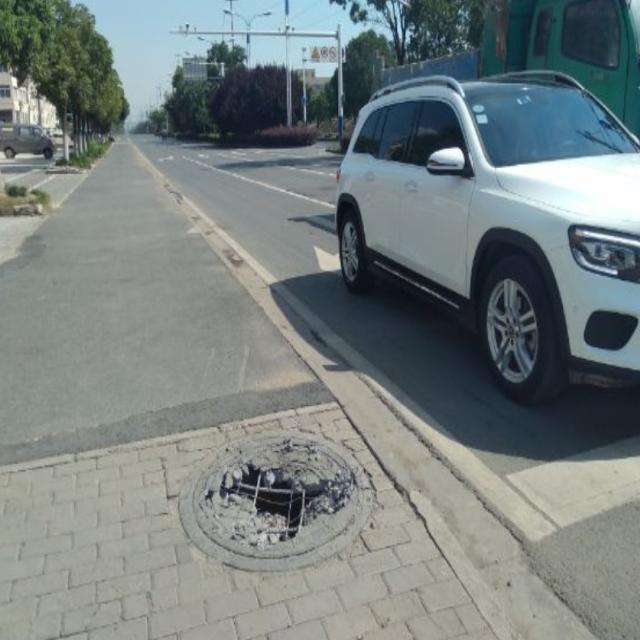Faulty: (168, 424, 384, 580)
